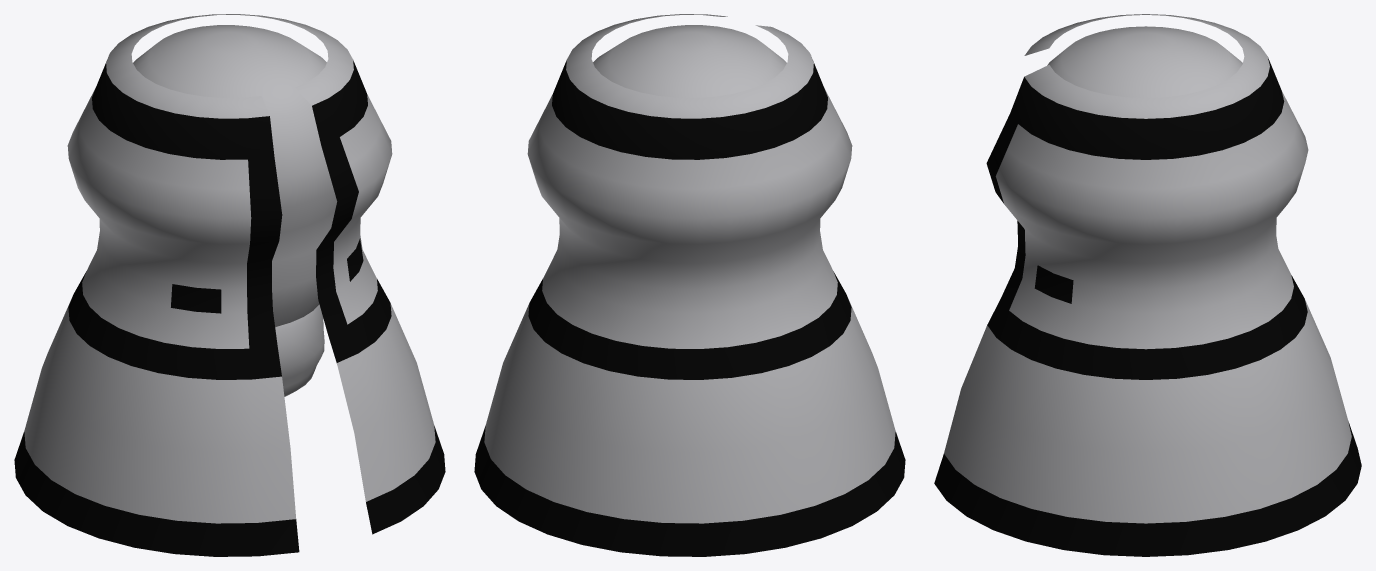
Rendered from body.gltf.
3 views of the same model, side by side, from view 1: azimuth 30°, elevation 25°; view 2: azimuth 150°, elevation 25°; view 3: azimuth 270°, elevation 25° (orthographic).
Visible parts, largest first — view 1: Sphere.155, body.030, Sphere.156; view 2: Sphere.155, body.030; view 3: Sphere.155, body.030.
Part boxes in pixels (x1,y1,x2,y2): Sphere.155: (14,14,445,556); body.030: (133,25,337,326); Sphere.156: (275,304,324,396); Sphere.155: (474,14,905,556); body.030: (593,25,786,97); Sphere.155: (934,14,1361,556); body.030: (1047,26,1242,97).
Bounding box in the file's own units: 0.3694 × 0.3989 × 0.3659.
Materials: 2 (2 with a texture image).
